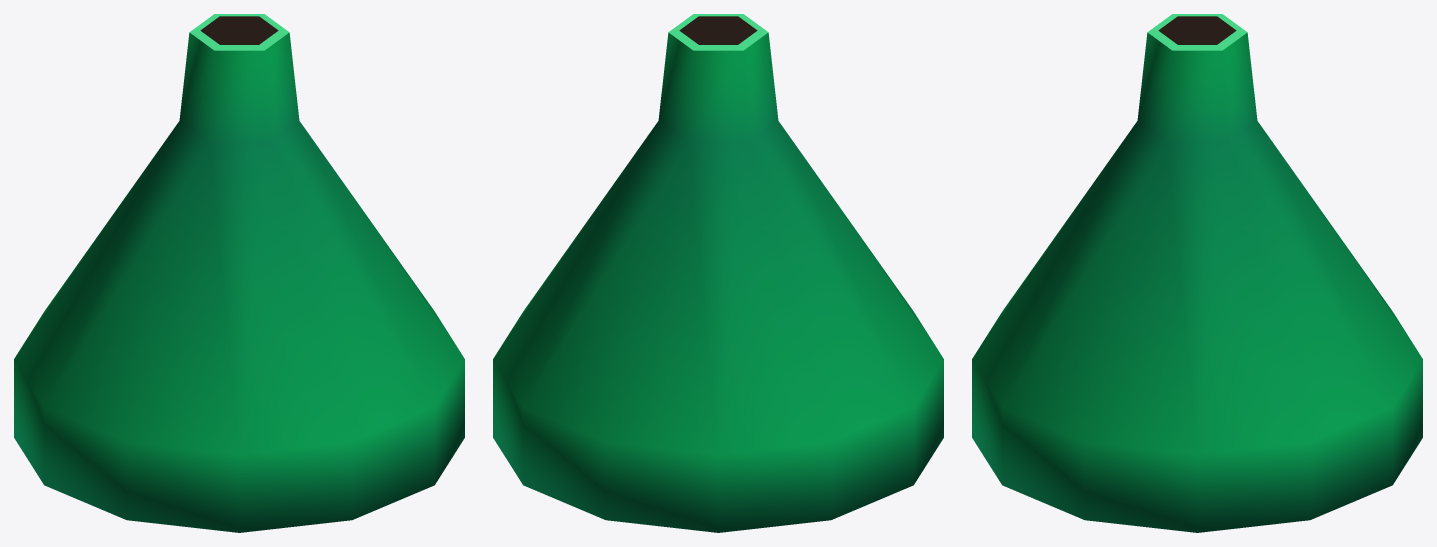
File: TSP_Bowl_02D.fbx
3 renders of one model, left to right at view 1: azimuth 30°, elevation 25°; view 2: azimuth 150°, elevation 25°; view 3: azimuth 270°, elevation 25°, orthographic.
Visible parts, largest first — view 1: TSP_Bowl_02D; view 2: TSP_Bowl_02D; view 3: TSP_Bowl_02D.
Part boxes in pixels (bbox=[...]): TSP_Bowl_02D: bbox=[14, 14, 464, 532]; TSP_Bowl_02D: bbox=[493, 14, 943, 532]; TSP_Bowl_02D: bbox=[972, 14, 1422, 532].
Bounding box in the file's own units: 0.5044 × 0.5788 × 0.5044.
